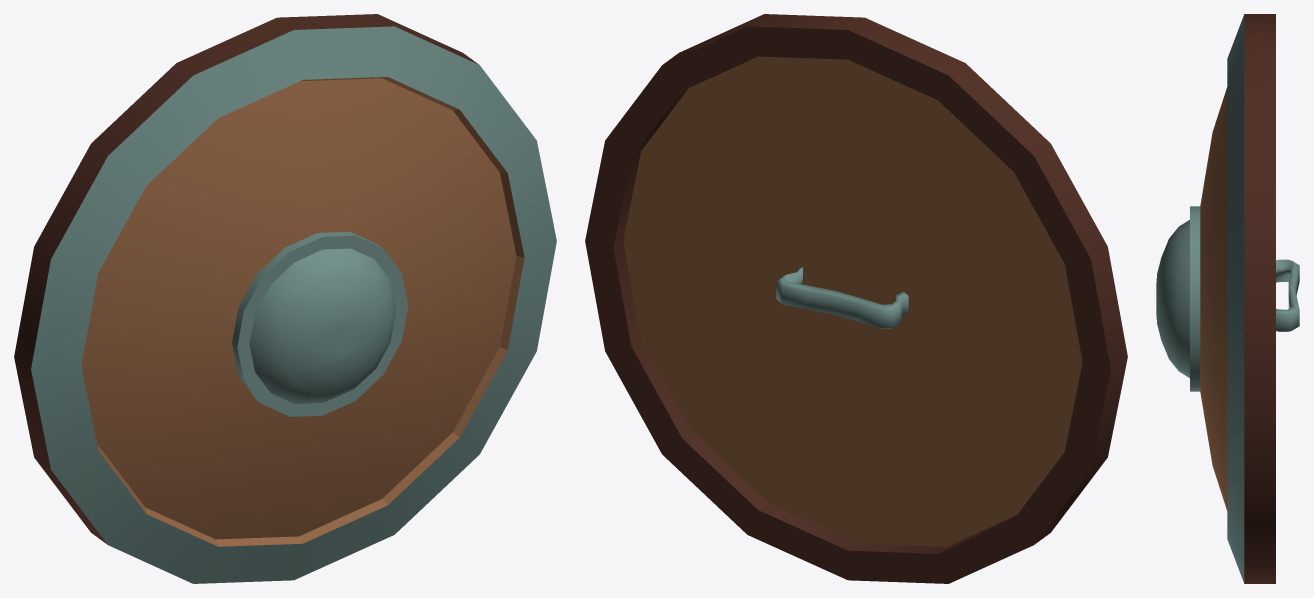
File: SM_Shield01.fbx
3 views of the same model, side by side, from view 1: azimuth 30°, elevation 25°; view 2: azimuth 150°, elevation 25°; view 3: azimuth 270°, elevation 25° (orthographic). The views are drawn at different scales.
Visible parts, largest first — view 1: SM_Shield; view 2: SM_Shield; view 3: SM_Shield.
Boxes of the visible parts, left/top/right/bottom form: SM_Shield: left=14, top=14, right=556, bottom=583; SM_Shield: left=585, top=14, right=1127, bottom=583; SM_Shield: left=1156, top=14, right=1299, bottom=583.
Bounding box in the file's own units: 46.85 × 46.85 × 11.77.
Materials: 1 (1 with a texture image).
